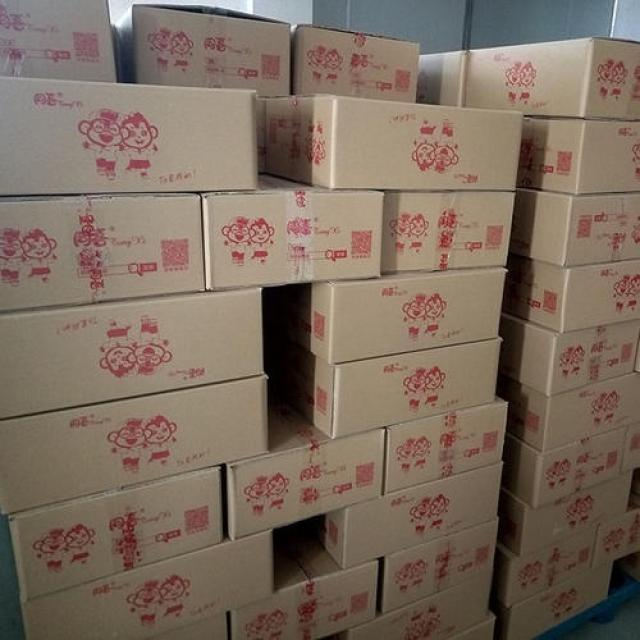Carton: (9, 335, 502, 639), (1, 5, 520, 187), (461, 40, 639, 396), (1, 288, 264, 513), (1, 197, 201, 307), (511, 371, 634, 506), (332, 268, 502, 358), (207, 192, 376, 282), (389, 193, 512, 269), (300, 24, 419, 100)
